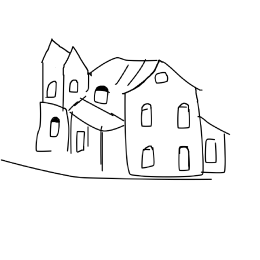open_window: (173, 98, 193, 130), (136, 99, 158, 128), (91, 82, 113, 111), (138, 142, 158, 173), (176, 140, 194, 174), (202, 137, 219, 166), (45, 113, 62, 142), (44, 78, 62, 102), (74, 130, 88, 154), (66, 77, 80, 97)
single_line_roof: (86, 53, 207, 99), (59, 43, 92, 78), (38, 29, 70, 65)
wall: (121, 84, 205, 178)
